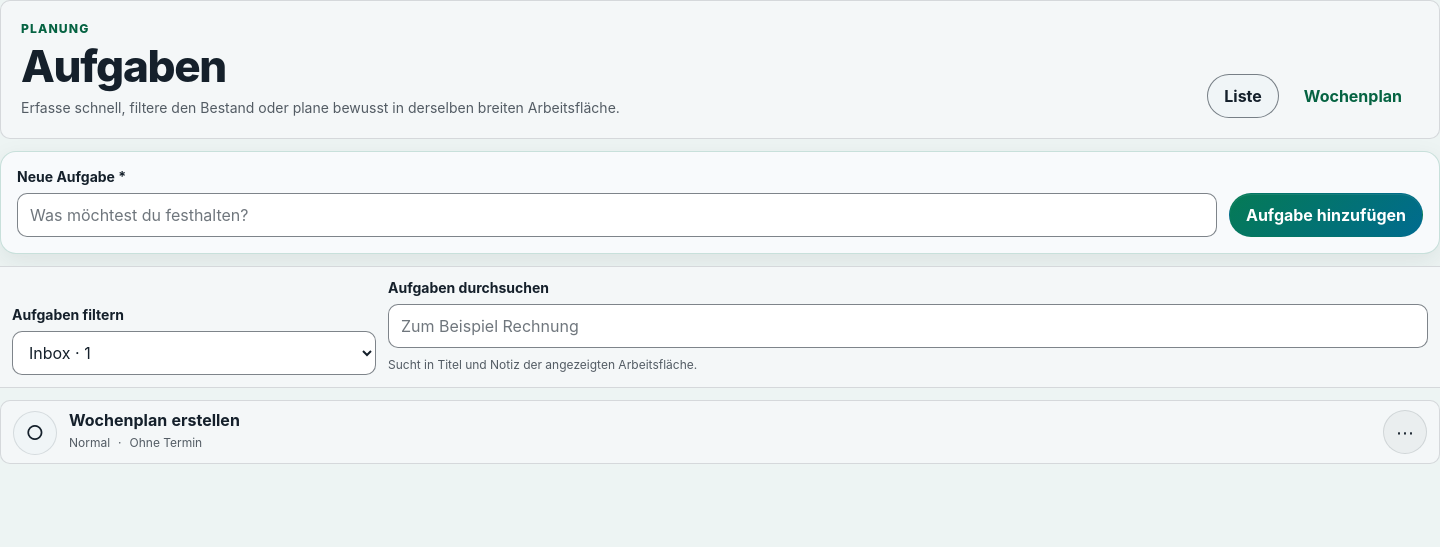
Test: TasksPage › separates an empty result from an empty view
The width and height of the screenshot is (1440, 547).
Expected: the heading "Wochenplan erstellen" is shown, [69,410,240,430]
Type "Segeltörn" into the search field labelled "Aufgaben durchsuchen" at (908, 326), box [388,304,1428,348]
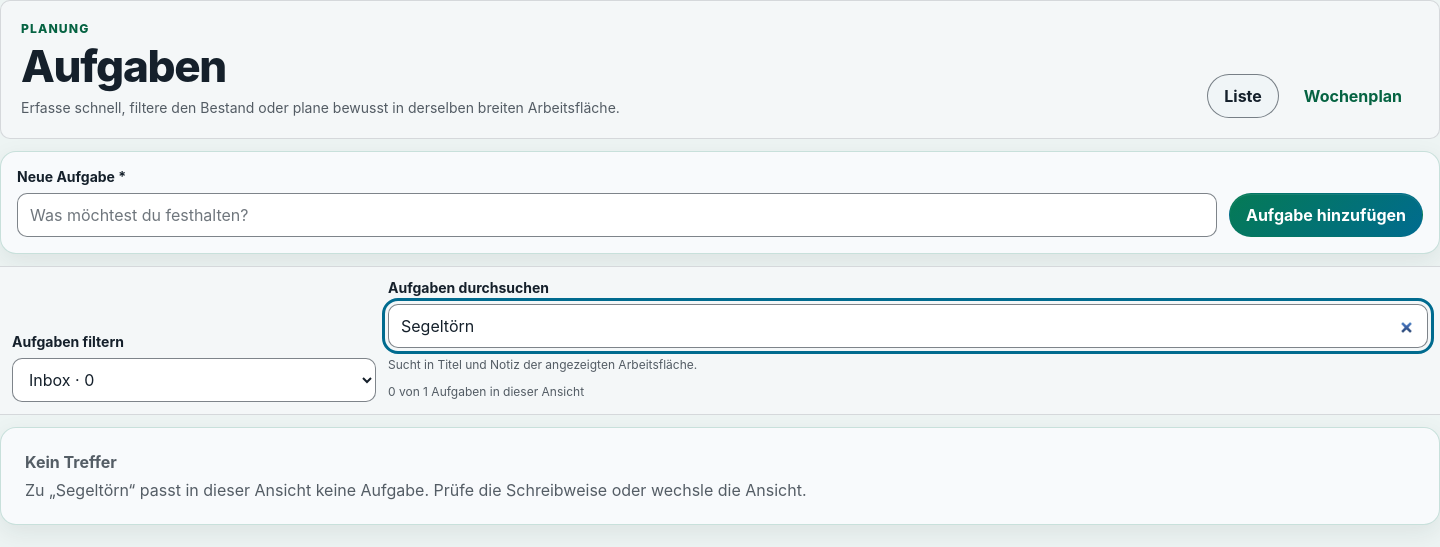
Expected: the text "Kein Treffer" is shown, [25,452,117,472]
Expected: the text "Zu „Segeltörn“ passt in dieser Ansicht keine Aufgabe. Prüfe die Schreibweise oder wechsle die Ansicht." is shown, [25,480,806,500]
